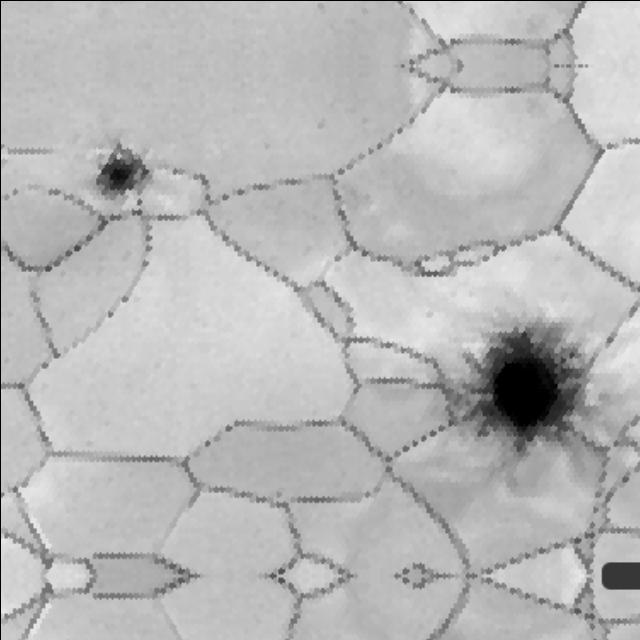good_void: (445, 301, 615, 496), (87, 133, 150, 205), (314, 116, 326, 130), (314, 1, 326, 15), (260, 141, 270, 153), (135, 198, 144, 208), (424, 309, 433, 319)
